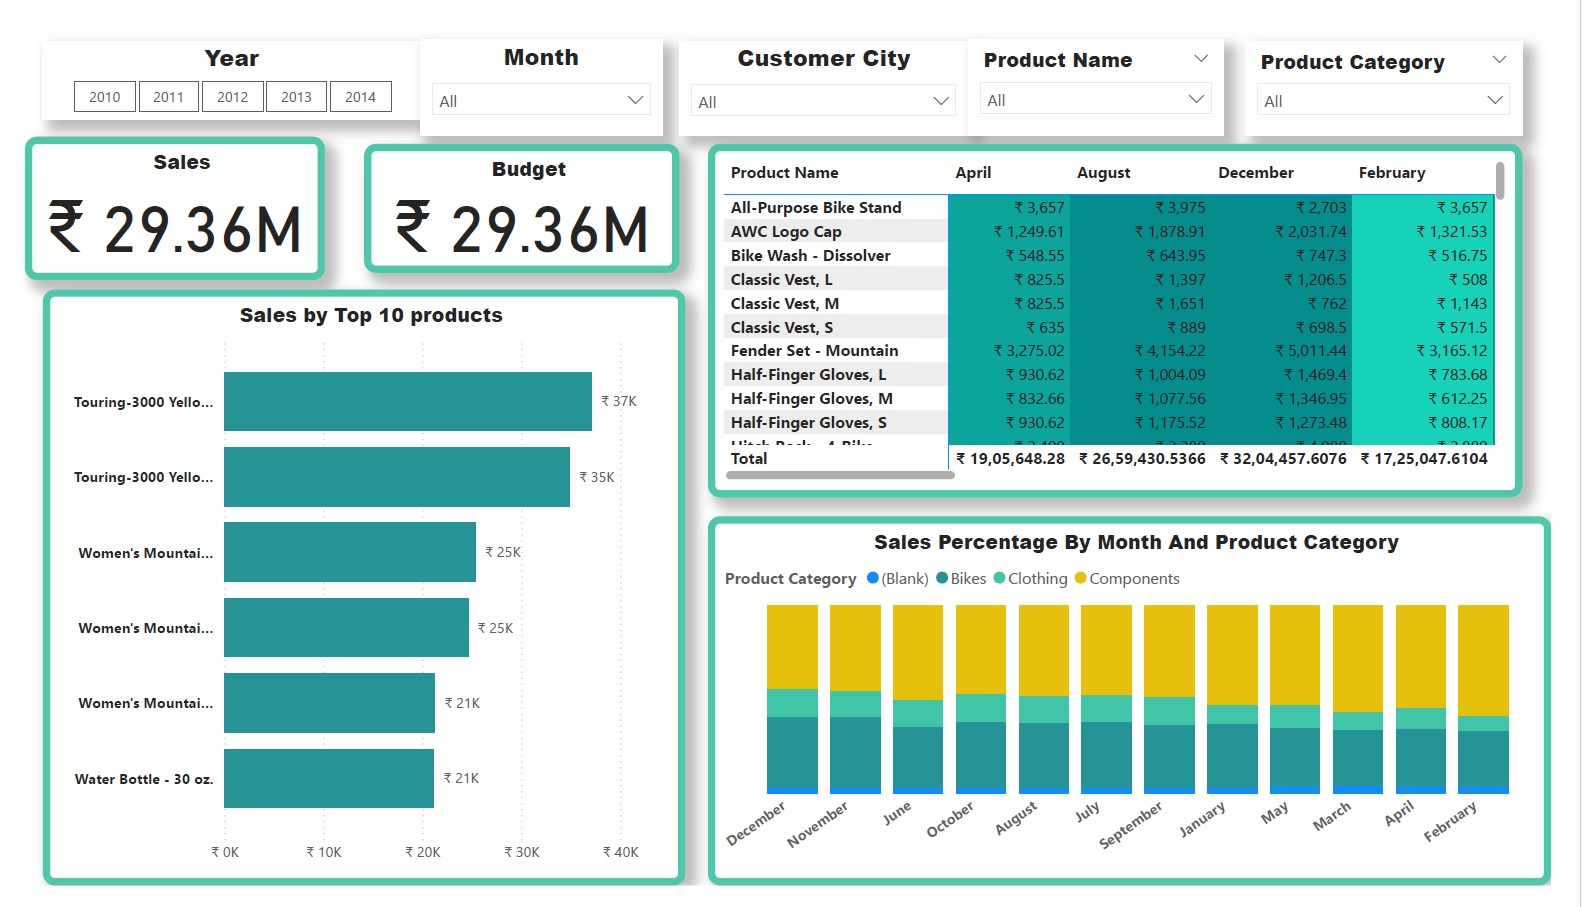

Layout of this report page (visuals, bound fields, positions):
{"tool":"powerbi","page":{"name":"Product Details","canvas":[1280,720],"ordinal":2},"visuals":[{"type":"slicer","title":"Year","fields":{"Values":["DimDate.Year"]},"box":[17.1,13.5,315.5,66],"z":0},{"type":"slicer","title":"Product Category","fields":{"Values":["DIimProduct.Product Category"]},"box":[1023.5,13.5,232.3,78.3],"z":1000},{"type":"slicer","title":"Month","fields":{"Values":["DimDate.Month"]},"box":[332.6,12.2,203,79.5],"z":2000},{"type":"slicer","title":"Customer City ","fields":{"Values":["DimCustomer.Customer City"]},"box":[550.3,13.5,242.1,78.3],"z":3000},{"type":"slicer","fields":{"Values":["DIimProduct.Product Name"]},"box":[792.4,12.2,214,79.5],"z":4000},{"type":"card","title":"Sales ","fields":{"Values":["Sum(FactSales.SalesAmount)"]},"box":[2.4,92.9,250.7,119.8],"z":5000},{"type":"card","title":"Budget","fields":{"Values":["Sum(FactSales.Budget)"]},"box":[286.1,99,264.1,107.6],"z":6000},{"type":"pivotTable","fields":{"Rows":["DIimProduct.Product Name"],"Columns":["DimDate.Month"],"Values":["Sum(FactSales.SalesAmount)"]},"box":[573.5,99,682.3,295.9],"z":7000},{"type":"barChart","title":"Sales by Top 10 products","fields":{"Category":["DIimProduct.Product Name"],"Y":["Sum(FactSales.SalesAmount)"]},"box":[17.1,221.3,538,498.9],"z":8000},{"type":"hundredPercentStackedColumnChart","title":"Sales Percentage By Month And Product Category","fields":{"Y":["Sum(FactSales.SalesAmount)"],"Series":["DIimProduct.Product Category"],"Category":["DimDate.Month"]},"box":[573.5,410.9,706.8,309.4],"z":9000}]}

Visuals, with their boxes in screenshot pixels (x1, y1, x2, y2), scaled from the page's 1280x720 canvas onto the 1582x907 screenshot:
"Year" slicer: region(21, 17, 411, 100)
"Product Category" slicer: region(1265, 17, 1552, 116)
"Month" slicer: region(411, 15, 662, 116)
"Customer City " slicer: region(680, 17, 979, 116)
slicer - DIimProduct.Product Name: region(979, 15, 1244, 116)
"Sales " card: region(3, 117, 313, 268)
"Budget" card: region(354, 125, 680, 260)
pivotTable - DIimProduct.Product Name x DimDate.Month: region(709, 125, 1552, 497)
"Sales by Top 10 products" barChart: region(21, 279, 686, 906)
"Sales Percentage By Month And Product Category" hundredPercentStackedColumnChart: region(709, 518, 1581, 906)
